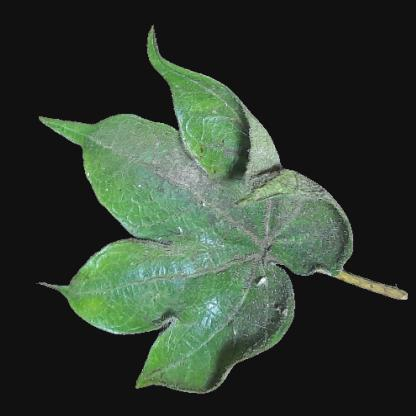curl_stage1: (75, 247, 123, 329), (168, 81, 220, 118)
sooty: (173, 215, 314, 346), (211, 139, 277, 219), (132, 149, 211, 197), (313, 195, 338, 275)
